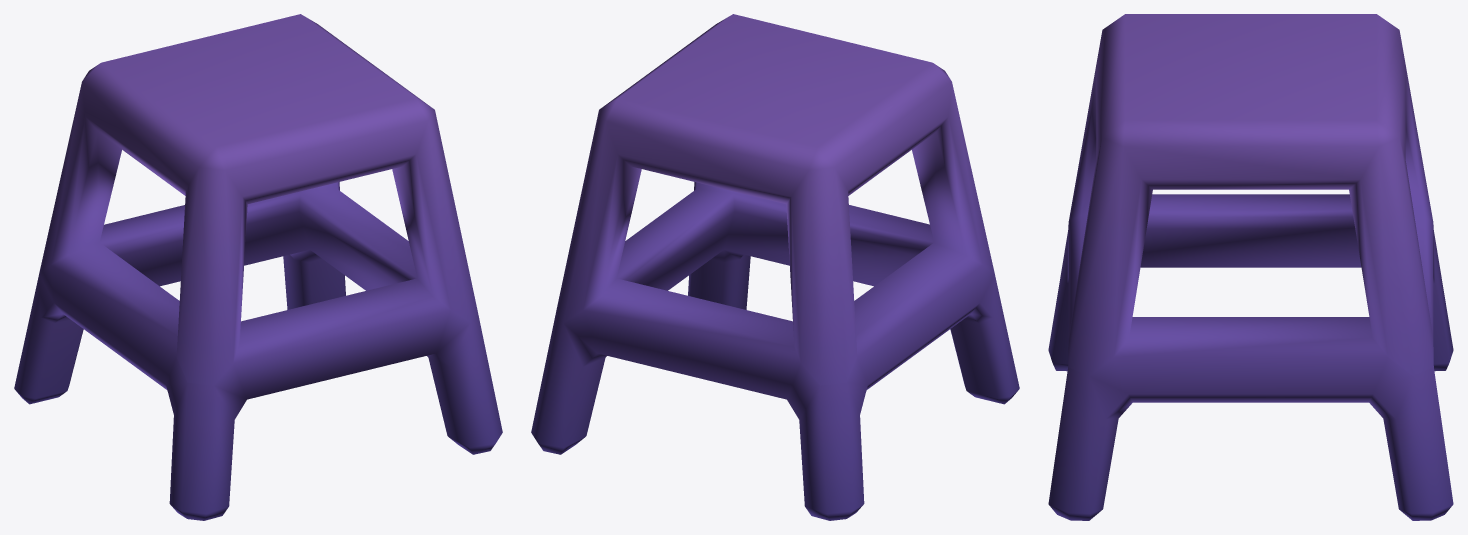
Rendered from Furniture_Chair_10.fbx.
3 renders of one model, left to right at view 1: azimuth 30°, elevation 25°; view 2: azimuth 150°, elevation 25°; view 3: azimuth 270°, elevation 25°, orthographic. The views are drawn at different scales.
Visible parts, largest first — view 1: Furniture_Chair_10; view 2: Furniture_Chair_10; view 3: Furniture_Chair_10.
Part boxes in pixels (left/top/right/bottom): Furniture_Chair_10: left=14, top=14, right=502, bottom=520; Furniture_Chair_10: left=531, top=14, right=1019, bottom=520; Furniture_Chair_10: left=1048, top=14, right=1453, bottom=520.
Size of the model in its own units: 73.97 by 74.15 by 73.29.
